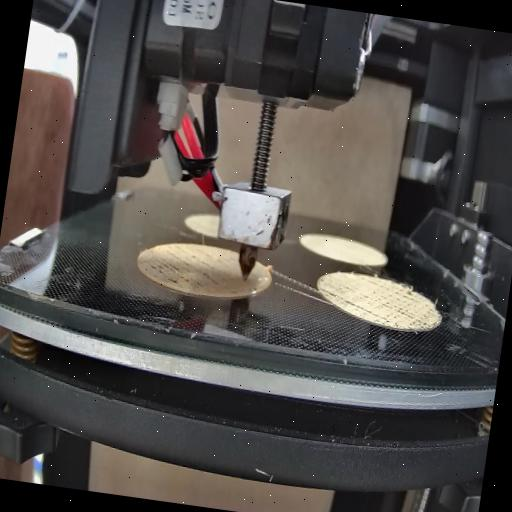under_extrusion: (342, 276, 440, 330), (146, 238, 224, 290), (229, 277, 261, 303), (320, 284, 344, 306)
